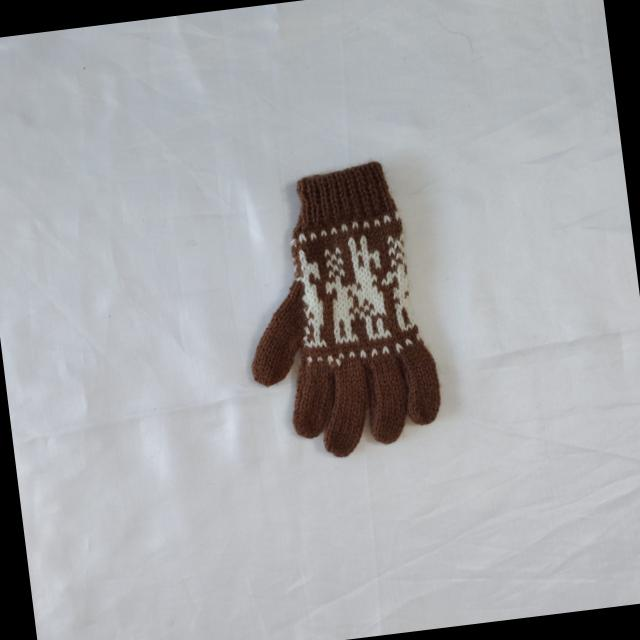Guante: (227, 154, 448, 466)
